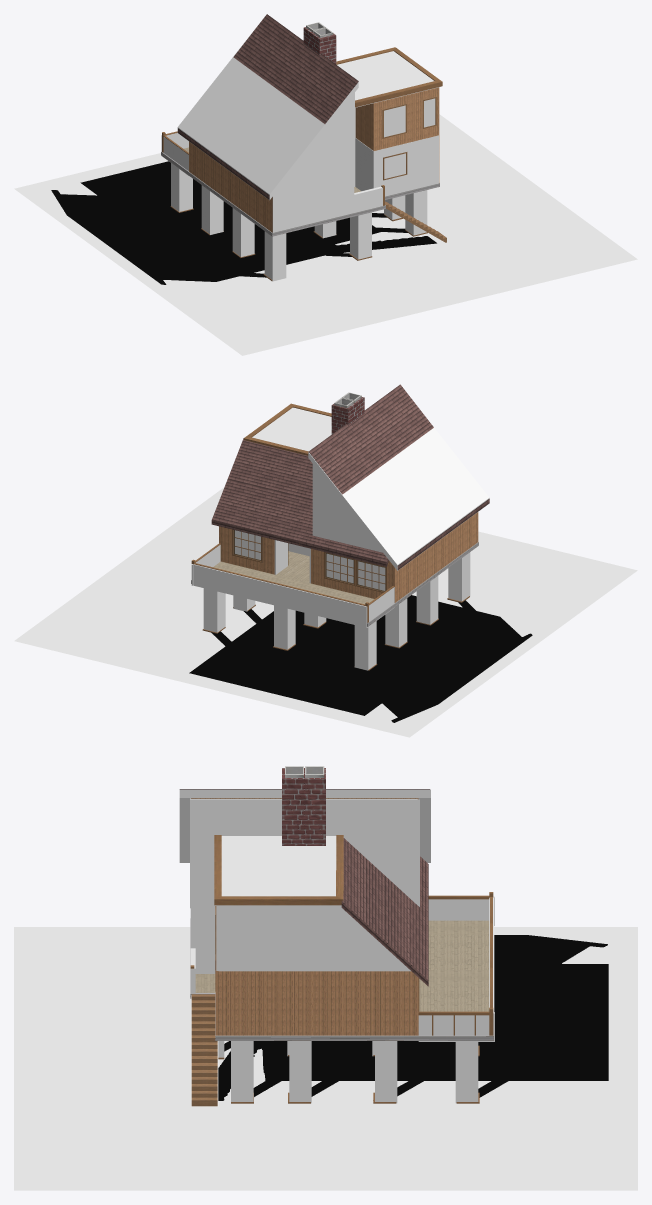
Rendered from zhuzhai_xiaomuwu01_01.FBX.
The picture shows the model from 3 angles, top to bottom: view 1: azimuth 30°, elevation 25°; view 2: azimuth 150°, elevation 25°; view 3: azimuth 270°, elevation 25°; orthographic projection. The views are drawn at different scales.
Parts seen in each view (by area): view 1: floor_dz, shadow, box_1l, floor_wd, wall_wd, wall_1l, wall_2l, box_2l, Box004, Box003; view 2: floor_dz, shadow, wall_wd, floor_wd, box_1l, wall_1l, box_2l, floor_1l, Box004; view 3: floor_dz, shadow, box_2l, wall_1l, wall_wd, box_1l, floor_wd, floor_1l.
Part boxes in pixels (x1,y1,x2,y2): floor_dz: [14, 114, 637, 355]; shadow: [51, 161, 436, 284]; box_1l: [161, 133, 438, 259]; floor_wd: [177, 18, 441, 200]; wall_wd: [178, 14, 442, 199]; wall_1l: [161, 131, 446, 280]; wall_2l: [355, 87, 439, 150]; box_2l: [284, 93, 355, 182]; Box004: [264, 231, 286, 281]; Box003: [372, 98, 435, 150]; floor_dz: [14, 487, 637, 737]; shadow: [189, 595, 532, 722]; wall_wd: [211, 384, 489, 569]; floor_wd: [252, 407, 489, 570]; box_1l: [191, 530, 438, 670]; wall_1l: [191, 512, 478, 670]; box_2l: [312, 464, 382, 552]; floor_1l: [213, 551, 374, 604]; Box004: [448, 552, 470, 601]; floor_dz: [14, 927, 637, 1190]; shadow: [218, 935, 608, 1100]; box_2l: [190, 798, 419, 971]; wall_1l: [190, 892, 493, 1106]; wall_wd: [179, 766, 430, 986]; box_1l: [190, 896, 494, 1106]; floor_wd: [179, 790, 430, 905]; floor_1l: [195, 920, 489, 1011].
Bounding box in the file's own units: 2603 × 1290 × 2603.
Materials: 5 (3 with a texture image).
